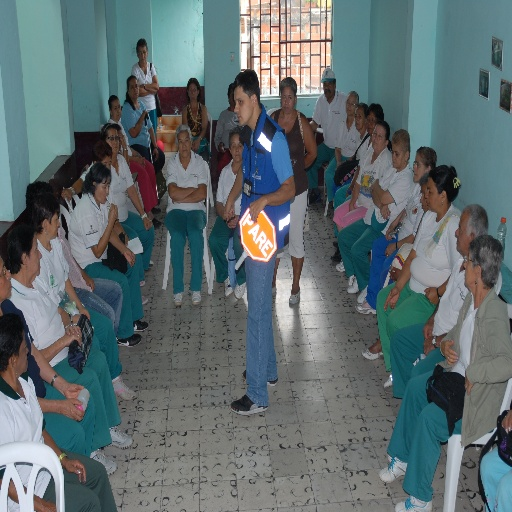hand: (58, 398, 86, 424), (62, 456, 86, 483), (441, 338, 460, 366), (62, 381, 84, 401), (383, 284, 398, 313), (248, 196, 266, 219), (422, 286, 441, 306), (63, 329, 82, 348), (422, 333, 436, 358), (422, 316, 435, 342), (106, 200, 118, 227), (463, 370, 475, 396), (384, 219, 396, 242), (122, 247, 135, 268), (63, 322, 82, 336), (221, 200, 233, 222), (60, 186, 75, 203), (383, 239, 397, 257), (389, 262, 401, 283), (501, 408, 511, 433), (38, 499, 57, 511), (142, 214, 153, 233), (228, 214, 240, 230), (380, 203, 391, 220), (117, 130, 126, 150), (79, 305, 90, 321), (85, 276, 95, 293), (370, 177, 381, 192), (151, 146, 160, 163), (217, 141, 226, 156), (192, 138, 199, 154), (138, 156, 146, 169), (140, 107, 148, 119), (171, 197, 181, 206), (344, 186, 352, 197), (348, 203, 356, 213), (336, 160, 344, 169), (137, 82, 143, 89), (124, 235, 128, 244)
